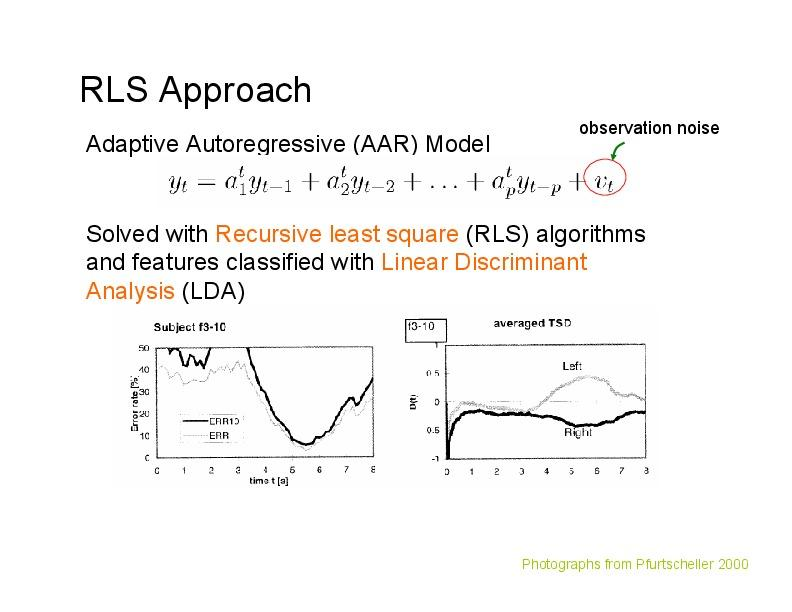paragraph: (80, 120, 742, 492)
subtitle: (513, 547, 755, 582)
title: (80, 70, 319, 113)
